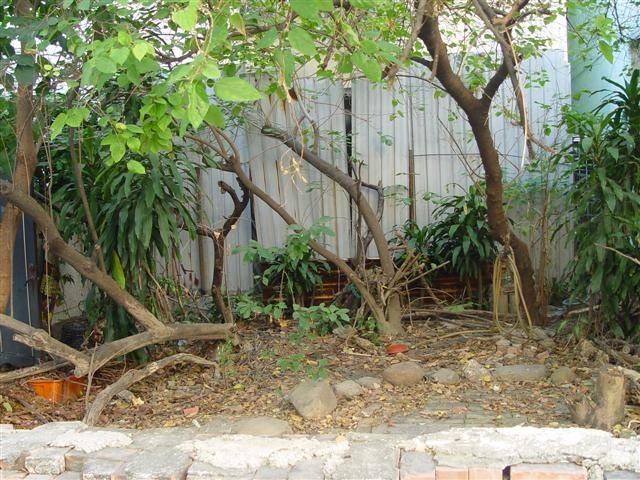box: (28, 369, 83, 401)
